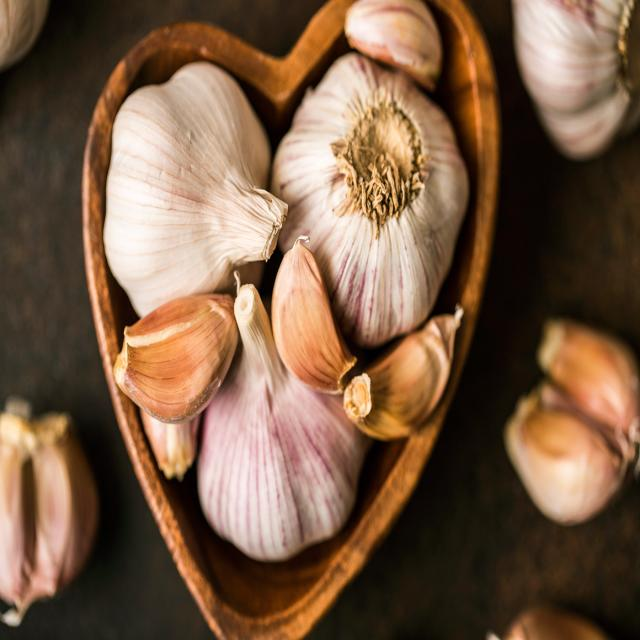Garlic: (182, 242, 388, 580), (276, 51, 478, 313), (90, 60, 288, 278), (503, 302, 640, 540), (102, 276, 245, 423), (267, 212, 359, 418), (339, 308, 465, 455), (334, 0, 452, 92)
